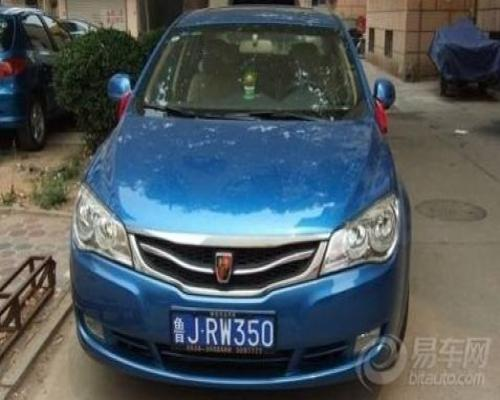Carplate: (166, 303, 278, 356)
